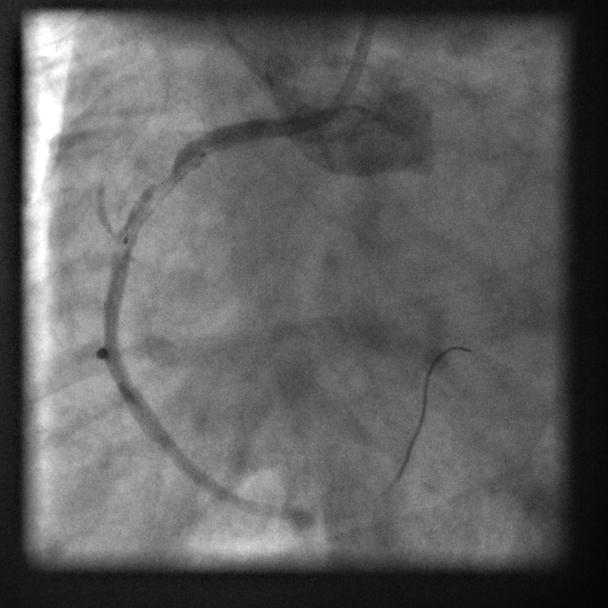Stenosis: (153, 153, 185, 199)
